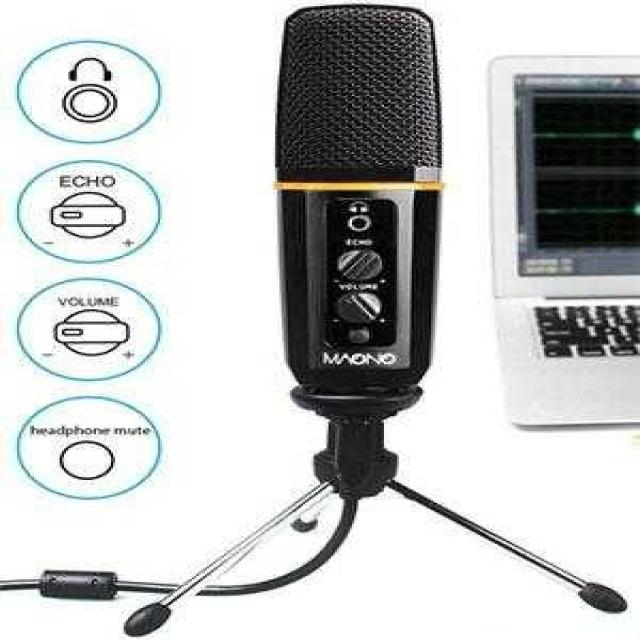microphone: (278, 6, 440, 436)
